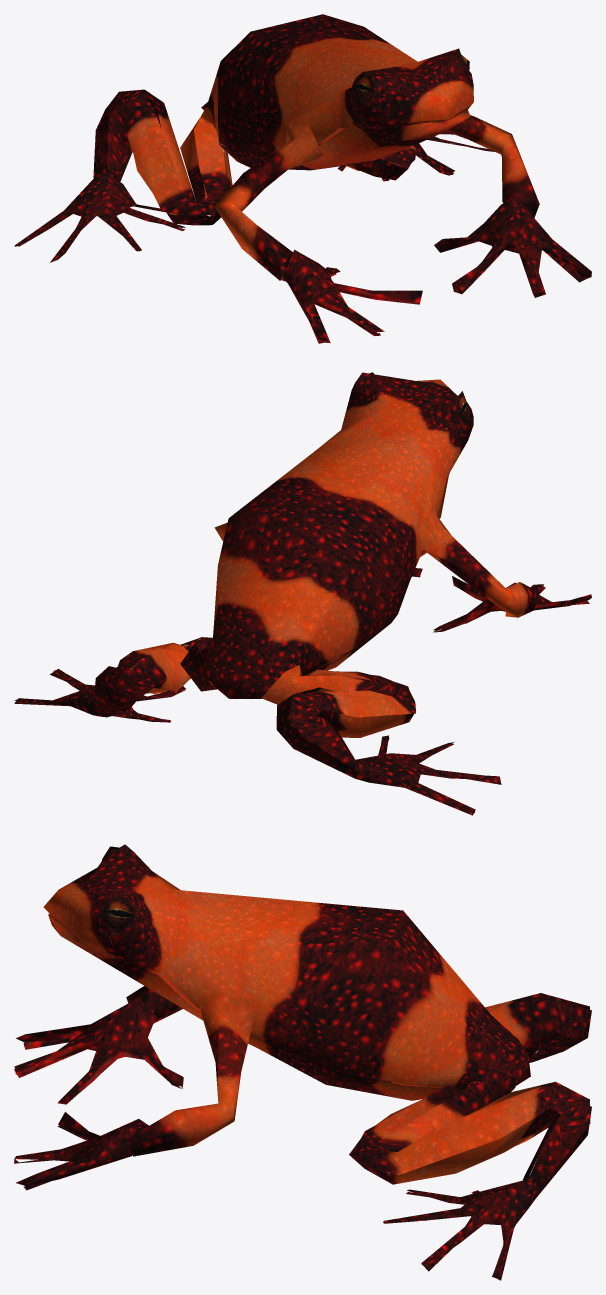
Rendered from Frog.glb.
3 views of the same model, one above another, from view 1: azimuth 30°, elevation 25°; view 2: azimuth 150°, elevation 25°; view 3: azimuth 270°, elevation 25° (orthographic). The views are drawn at different scales.
Parts seen in each view (by area): view 1: Object_10; view 2: Object_10; view 3: Object_10.
Boxes of the visible parts, x1=… form: Object_10: x1=14, y1=14, x2=591, y2=343; Object_10: x1=14, y1=372, x2=591, y2=815; Object_10: x1=14, y1=844, x2=591, y2=1280.
Size of the model in its own units: 308 by 162 by 298.
Materials: 1 (1 with a texture image).
